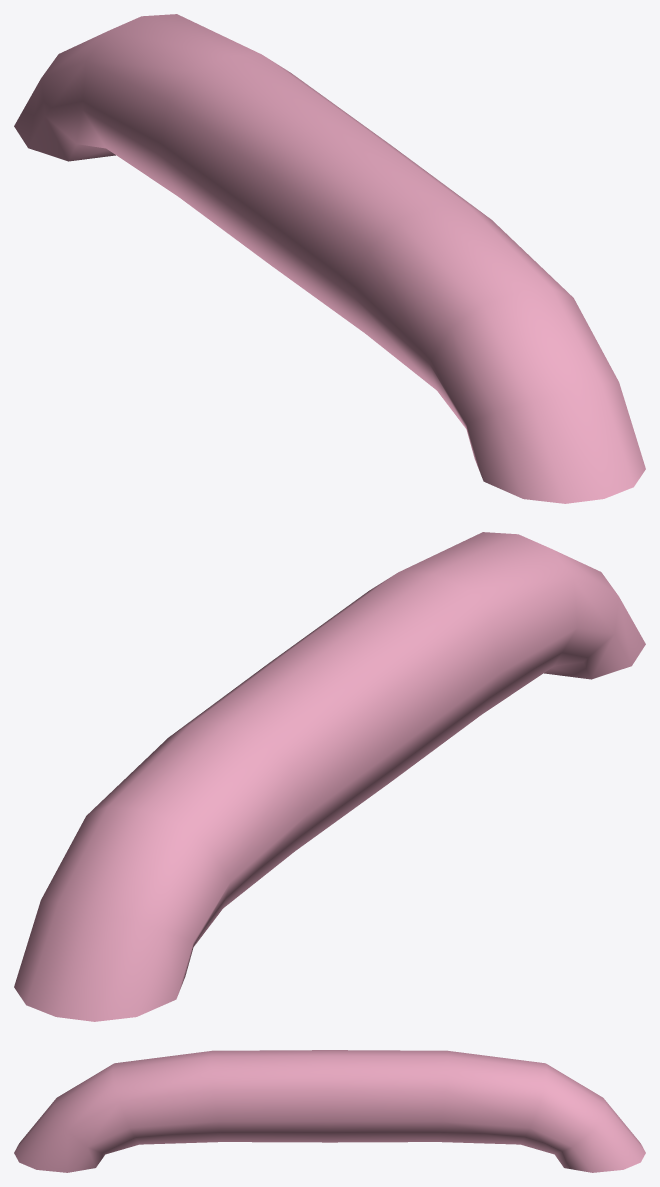
File: TrailModel.gltf
3 views of the same model, one above another, from view 1: azimuth 30°, elevation 25°; view 2: azimuth 150°, elevation 25°; view 3: azimuth 270°, elevation 25° (orthographic). The views are drawn at different scales.
Visible parts, largest first — view 1: TrailModel; view 2: TrailModel; view 3: TrailModel.
Part boxes in pixels (bbox=[...]): TrailModel: bbox=[14, 14, 645, 503]; TrailModel: bbox=[14, 532, 645, 1021]; TrailModel: bbox=[14, 1050, 645, 1172].
Bounding box in the file's own units: 0.1265 × 0.137 × 0.8106.
